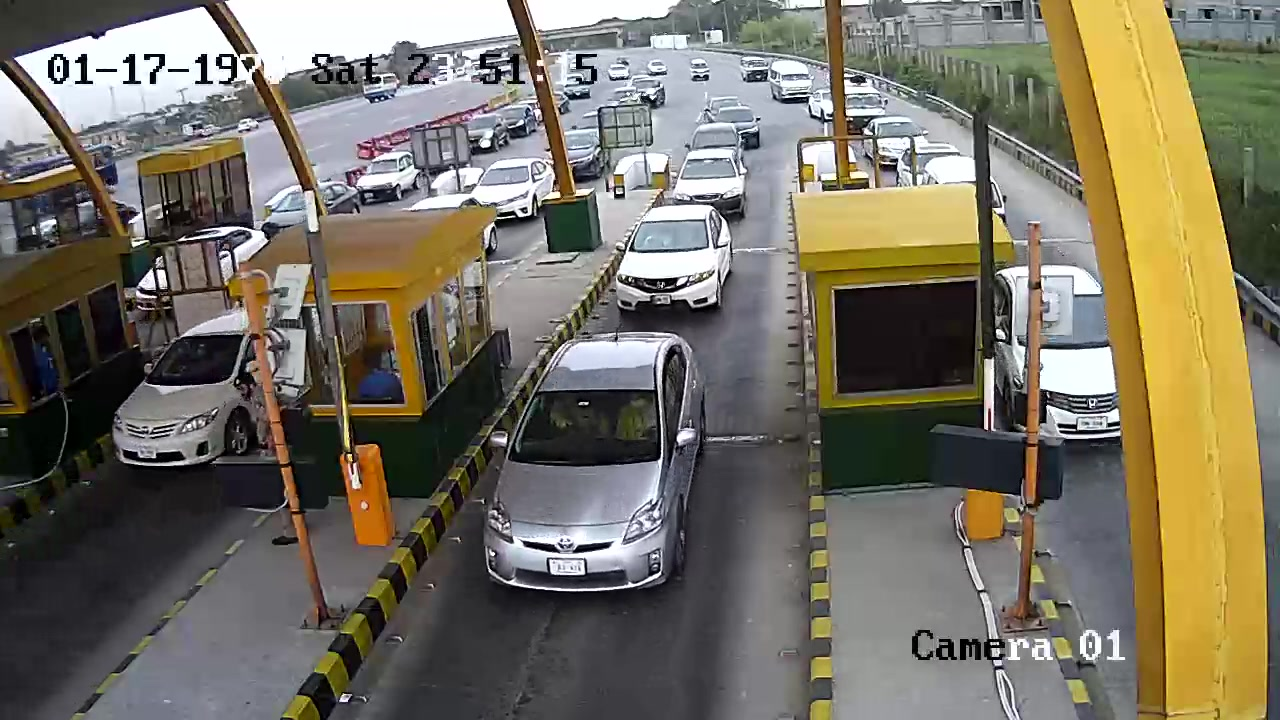F1: (475, 324, 751, 609)
